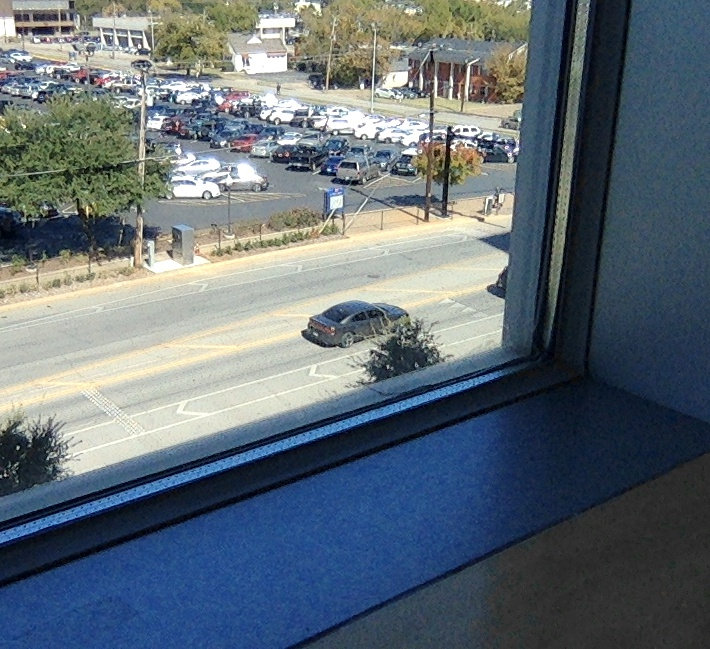car: (300, 300, 410, 349)
